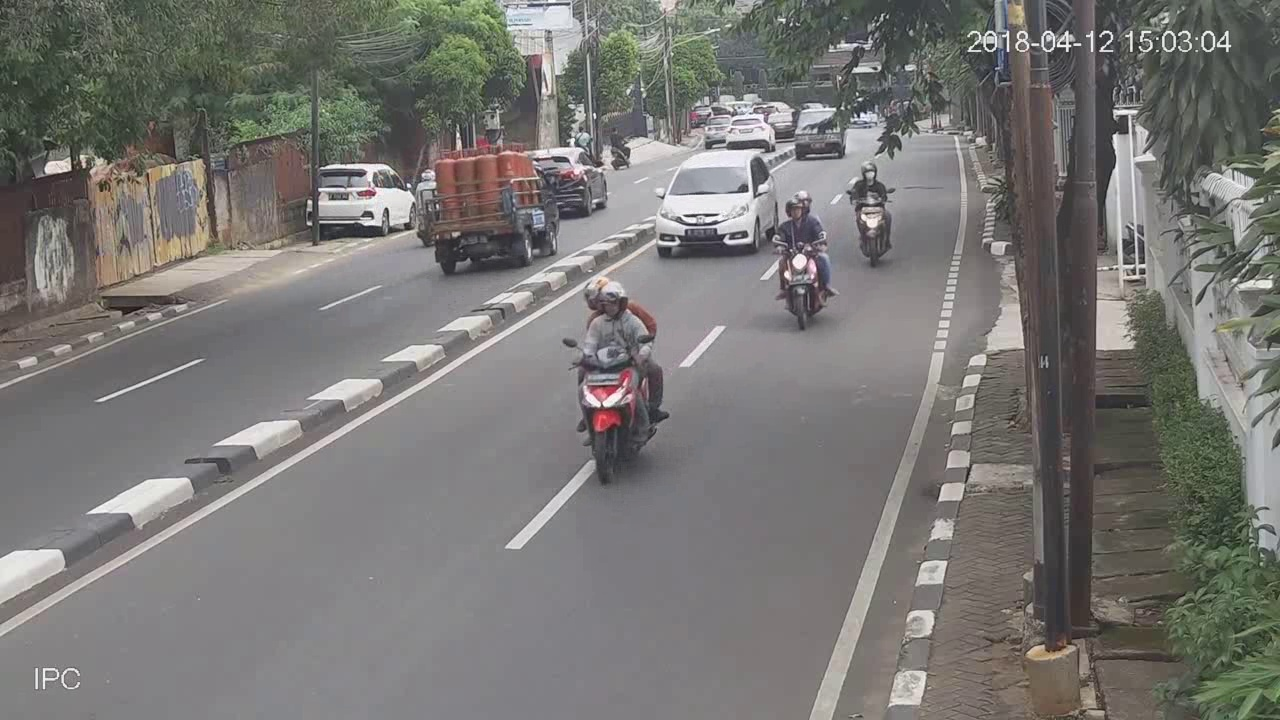car: (653, 151, 780, 258), (304, 157, 416, 239), (532, 142, 614, 214), (793, 107, 843, 161), (726, 114, 774, 151)
motorcycle: (562, 272, 676, 489), (768, 184, 841, 334), (843, 155, 899, 272)
truck: (428, 147, 562, 278)
